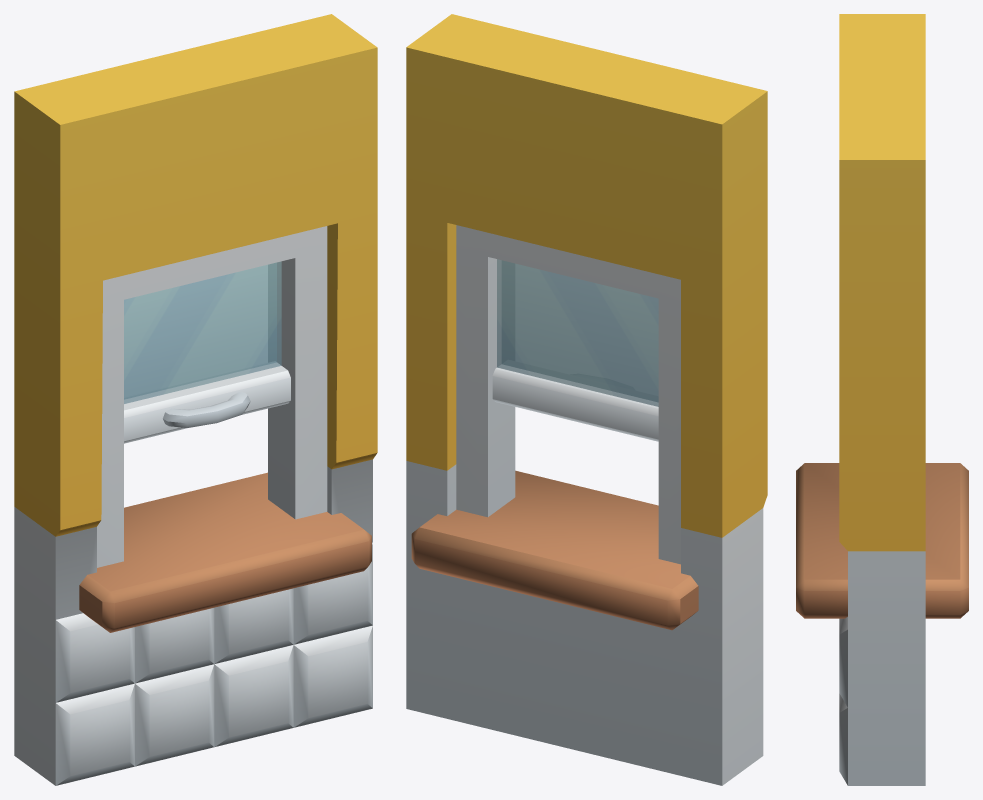
File: wall_tiled_window.fbx
The picture shows the model from 3 angles, left to right: view 1: azimuth 30°, elevation 25°; view 2: azimuth 150°, elevation 25°; view 3: azimuth 270°, elevation 25°; orthographic projection. The views are drawn at different scales.
Parts seen in each view (by area): view 1: wall_tiled_window; view 2: wall_tiled_window; view 3: wall_tiled_window.
Part boxes in pixels (left/top/right/bottom): wall_tiled_window: left=14, top=14, right=377, bottom=785; wall_tiled_window: left=406, top=14, right=767, bottom=785; wall_tiled_window: left=796, top=14, right=968, bottom=785.
Bounding box in the file's own units: 2 × 4 × 1.
